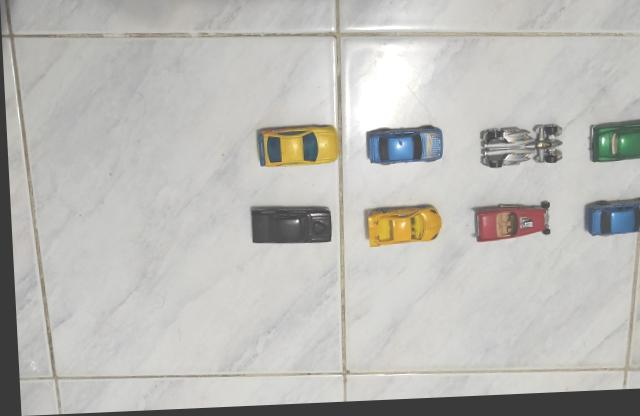01_FORD: (247, 205, 330, 246)
02_OZSOME: (255, 125, 339, 171)
03_V8: (469, 204, 549, 247)
04_MERZEDES: (364, 127, 443, 168), (581, 202, 640, 242)
05_DC121: (478, 126, 563, 173)
07_RHLTURBO: (364, 206, 441, 250)
